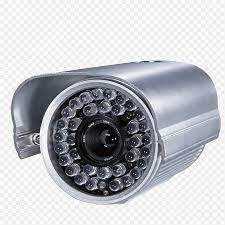tutu: (11, 54, 222, 199)
